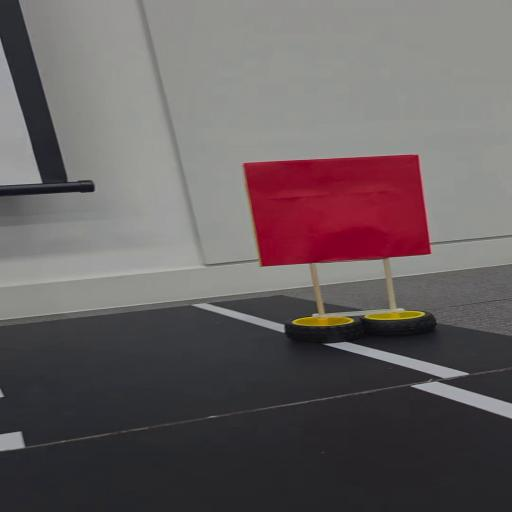Sign_A: (230, 152, 440, 348)
